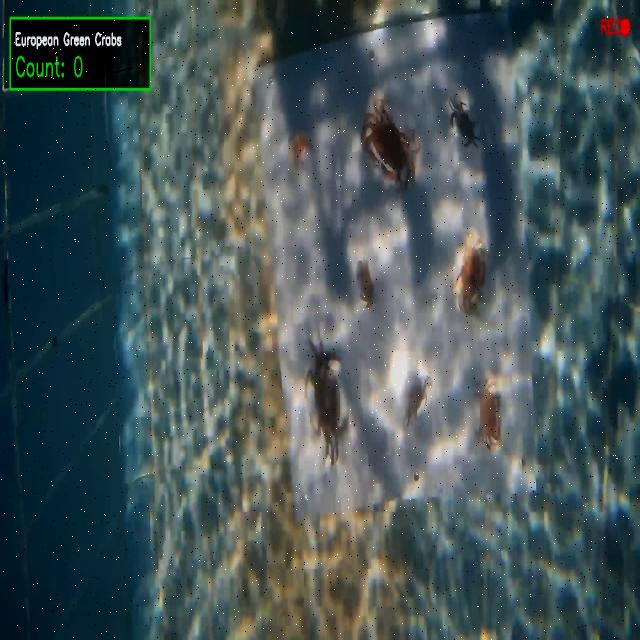European_Green_Crab: (294, 322, 360, 472), (388, 355, 438, 436), (443, 86, 483, 157)
